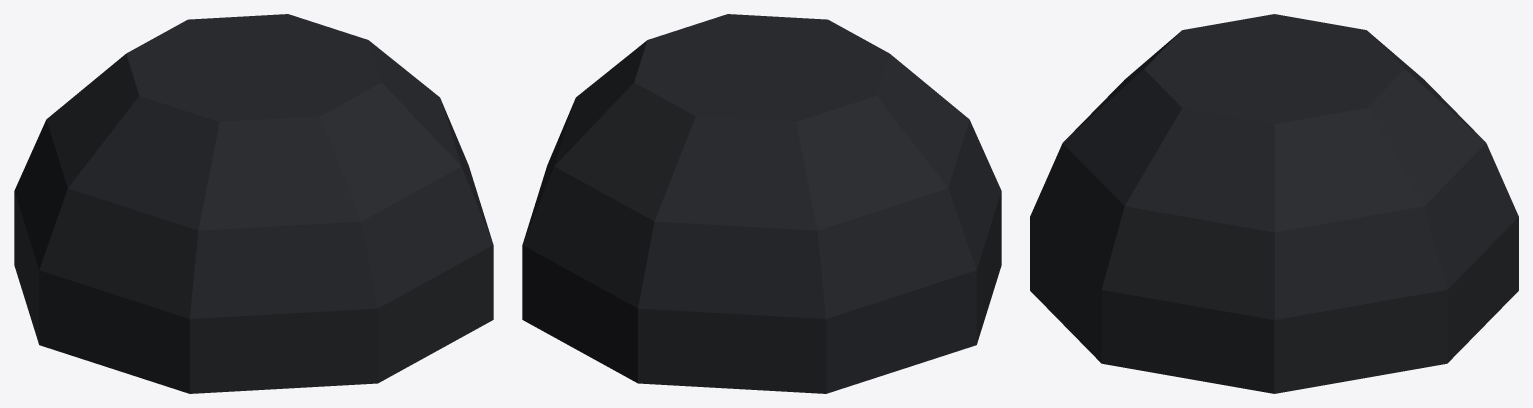
The model's file is stasis_pod_lamp.fbx.
3 views of the same model, side by side, from view 1: azimuth 30°, elevation 25°; view 2: azimuth 150°, elevation 25°; view 3: azimuth 270°, elevation 25° (orthographic).
Parts seen in each view (by area): view 1: stasis_pod_lamp; view 2: stasis_pod_lamp; view 3: stasis_pod_lamp.
Boxes of the visible parts, left/top/right/bottom form: stasis_pod_lamp: left=14, top=14, right=493, bottom=393; stasis_pod_lamp: left=522, top=14, right=1001, bottom=393; stasis_pod_lamp: left=1030, top=14, right=1518, bottom=393.
Size of the model in its own units: 6 by 3 by 6.
Materials: 1 (1 with a texture image).
